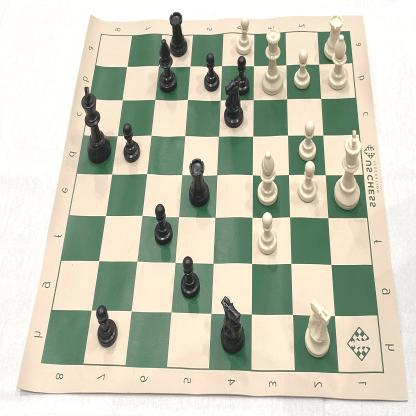black-bishop: (158, 35, 178, 96)
black-king: (78, 82, 112, 166)
black-knight: (217, 287, 249, 357), (219, 75, 249, 130)
black-pawn: (94, 300, 119, 351), (178, 252, 203, 300), (232, 53, 254, 97), (121, 119, 142, 165), (201, 50, 222, 94)
black-rook: (185, 153, 212, 210), (167, 7, 192, 60)
white-bishop: (254, 146, 284, 210), (325, 30, 352, 92)
white-king: (330, 124, 366, 216), (258, 23, 287, 99)
white-knight: (300, 290, 337, 364), (151, 199, 175, 250)
white-pawn: (295, 156, 322, 207), (255, 209, 279, 260), (290, 43, 314, 93), (296, 117, 320, 167), (233, 12, 254, 60)
white-rook: (320, 9, 346, 63)
